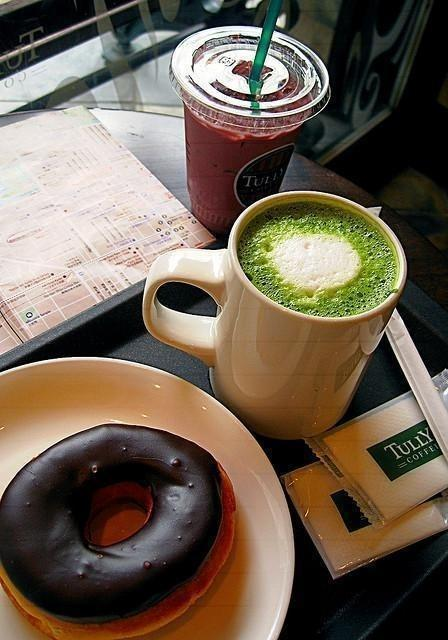cup-disposable: (169, 24, 330, 244)
cup-handle: (141, 189, 407, 439)
